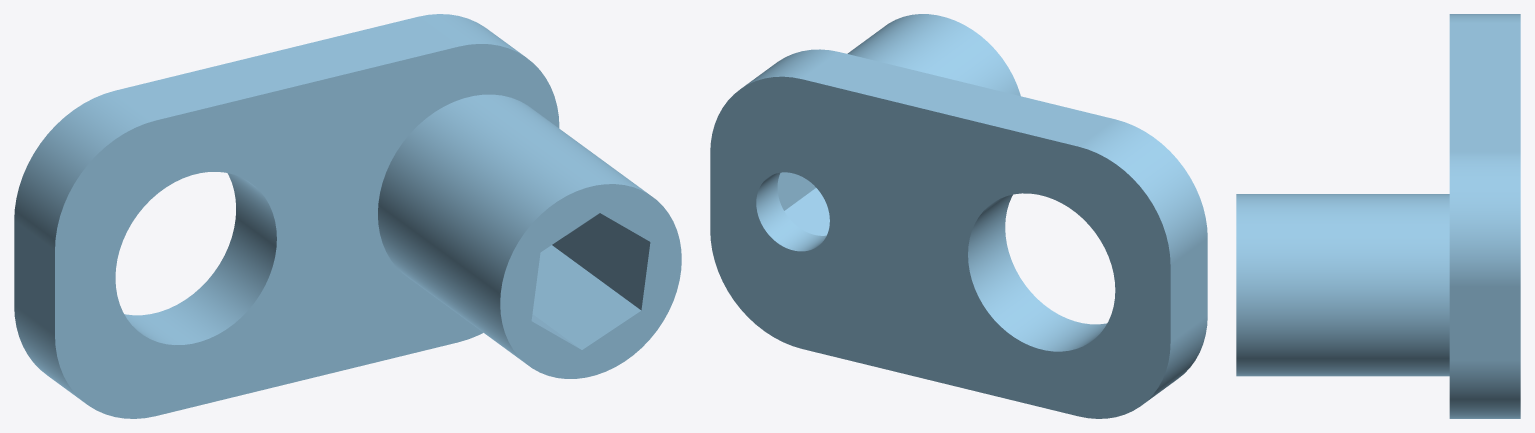
The picture shows the model from 3 angles, left to right: view 1: azimuth 30°, elevation 25°; view 2: azimuth 150°, elevation 25°; view 3: azimuth 270°, elevation 25°; orthographic projection. The views are drawn at different scales.
Visible parts, largest first — view 1: mesh82, mesh81, mesh80, mesh87, mesh92, mesh88, mesh75, mesh76, mesh89, mesh90, mesh86; view 2: mesh83, mesh87, mesh92, mesh81, mesh88, mesh89, mesh72, mesh90, mesh75, mesh86, mesh76; view 3: mesh81, mesh86, mesh87, mesh85, mesh84, mesh88.
Boxes of the visible parts, bbox=[...] form: mesh82: bbox=[55, 44, 559, 418]; mesh81: bbox=[378, 94, 647, 362]; mesh80: bbox=[500, 184, 681, 378]; mesh87: bbox=[115, 17, 457, 120]; mesh92: bbox=[124, 173, 276, 344]; mesh88: bbox=[14, 91, 155, 250]; mesh75: bbox=[532, 245, 640, 349]; mesh76: bbox=[552, 213, 650, 310]; mesh89: bbox=[14, 221, 54, 334]; mesh90: bbox=[14, 306, 84, 402]; mesh86: bbox=[418, 14, 524, 56]; mesh83: bbox=[710, 76, 1170, 418]; mesh87: bbox=[802, 52, 1115, 146]; mesh92: bbox=[968, 194, 1106, 351]; mesh81: bbox=[847, 14, 1020, 96]; mesh88: bbox=[1079, 119, 1207, 264]; mesh89: bbox=[1170, 238, 1207, 341]; mesh72: bbox=[756, 172, 826, 251]; mesh90: bbox=[1144, 315, 1207, 403]; mesh75: bbox=[784, 188, 829, 235]; mesh86: bbox=[742, 49, 838, 87]; mesh76: bbox=[777, 172, 815, 210]; mesh81: bbox=[1236, 194, 1449, 376]; mesh86: bbox=[1449, 152, 1520, 286]; mesh87: bbox=[1449, 23, 1520, 151]; mesh85: bbox=[1449, 287, 1520, 360]; mesh84: bbox=[1449, 360, 1520, 418]; mesh88: bbox=[1449, 14, 1520, 23].
Size of the model in its own units: 0.025 by 0.014 by 0.014.
